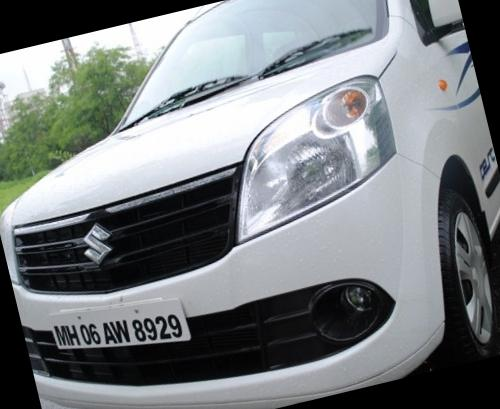plate: (45, 280, 195, 377)
